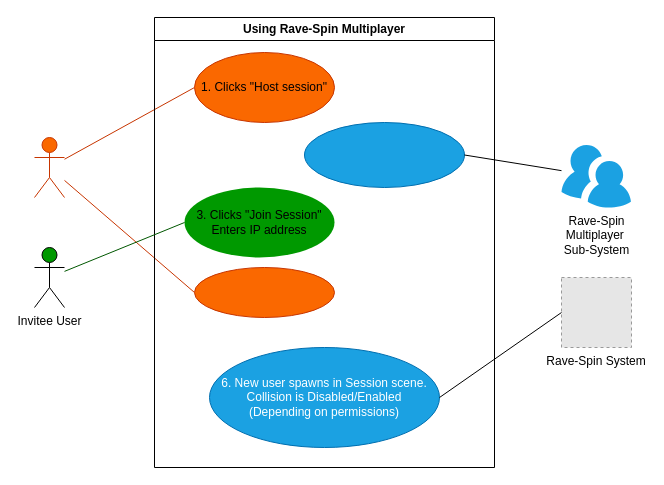
Image size: 664x485. Some labels were removed from this diagram. Grey dashed boxes stand in for pictures. Each missing label, with the centre of its shape:
"2. Get IP address, Enable listening for connections" goes at (x=384, y=155).
"4. Accepts/Rejects request to join" goes at (x=264, y=292).
"Host User" goes at (x=49, y=167).
